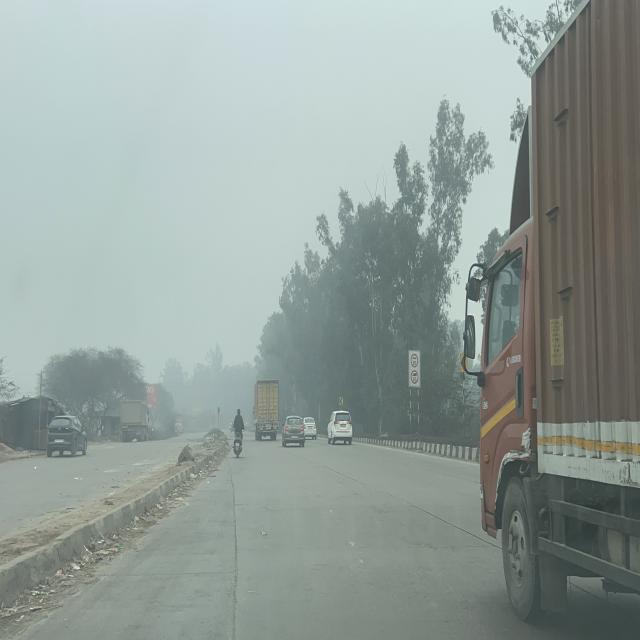TURN_LEFT: (340, 398, 343, 406), (292, 407, 295, 412)
TURN_RIGHT: (218, 407, 220, 413)
